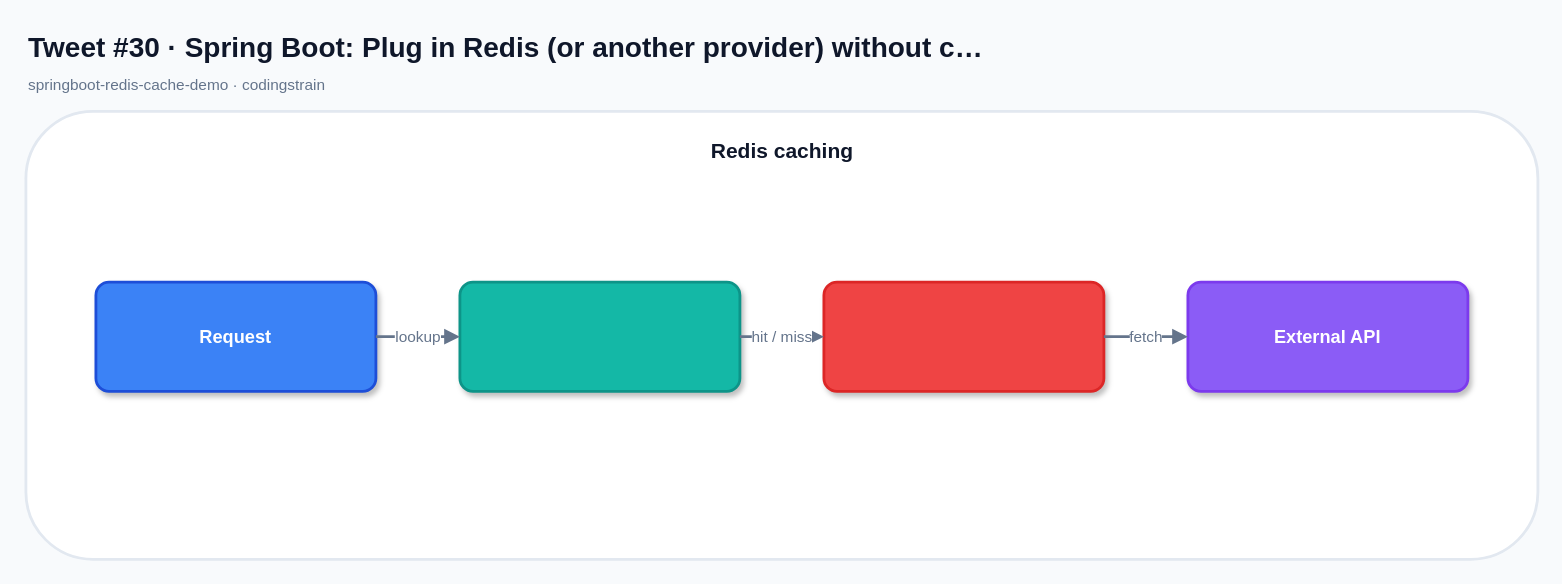
Some shapes in this 1562 by 584 pixel diagram are drawn without their labels. Here are the shapes that lost their labels. From the top down, the centre of each, then its label:
At point 600,338: "@Cacheable".
At point 964,338: "Redis".
